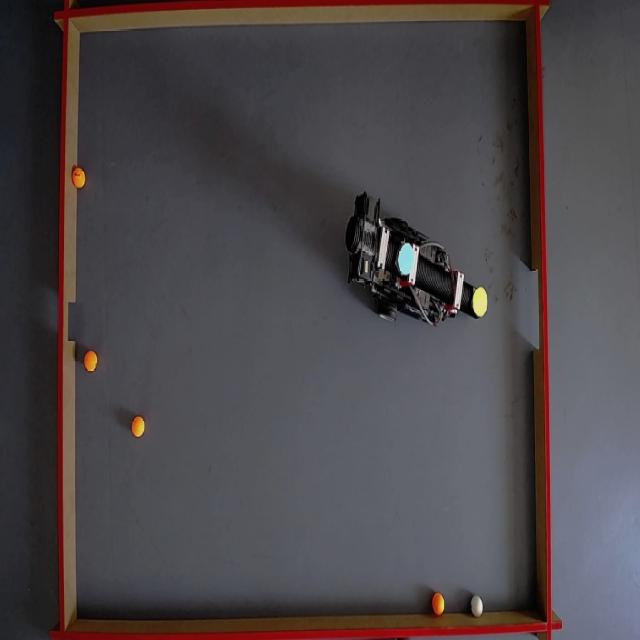orange: (130, 415, 146, 437), (432, 593, 447, 614), (85, 352, 98, 373), (74, 168, 87, 188)
robot: (337, 197, 496, 328)
robot-front: (471, 285, 490, 316)
robot-rear: (398, 244, 417, 276)
white: (470, 595, 484, 615)
